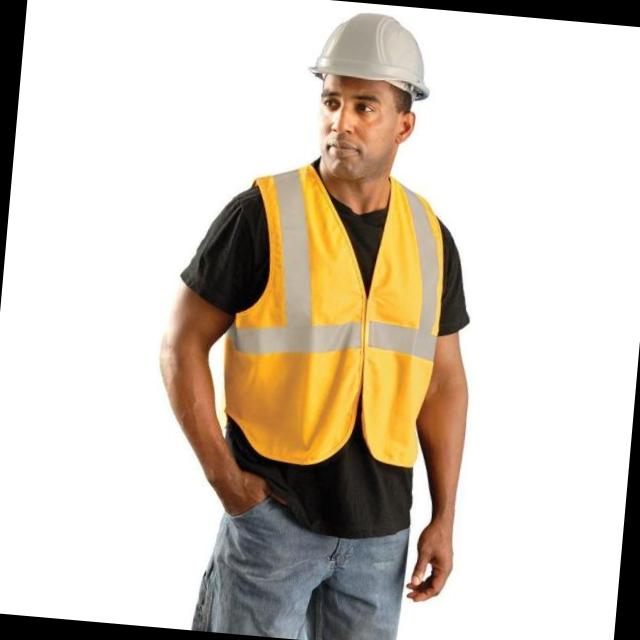Helmet: (296, 6, 462, 107)
Vest: (224, 164, 452, 476)
